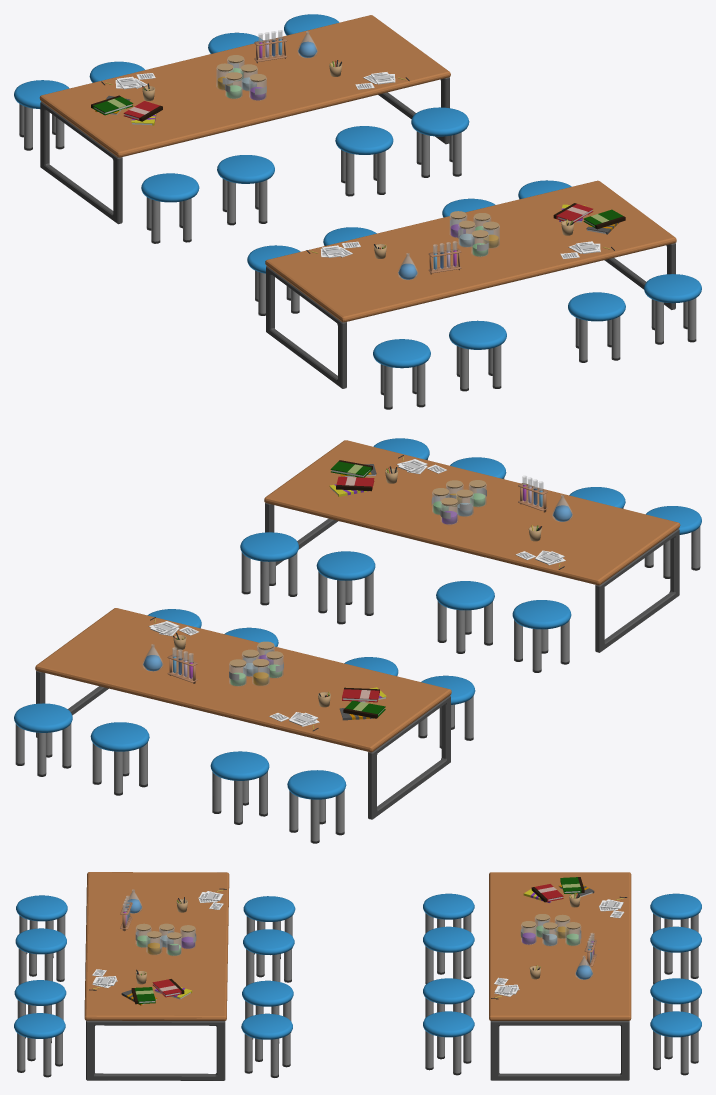
File: d-roombomp-d-hsab-labor.glb
The picture shows the model from 3 angles, top to bottom: view 1: azimuth 30°, elevation 25°; view 2: azimuth 150°, elevation 25°; view 3: azimuth 270°, elevation 25°; orthographic projection. The views are drawn at different scales.
Visible parts, largest first — view 1: x8Table.010, x8Table.014; view 2: x8Table.014, x8Table.010; view 3: x8Table.014, x8Table.010.
Boxes of the visible parts, x1=… form: x8Table.010: x1=14, y1=14, x2=469, y2=243; x8Table.014: x1=247, y1=180, x2=701, y2=409; x8Table.014: x1=240, y1=438, x2=701, y2=672; x8Table.010: x1=14, y1=608, x2=475, y2=843; x8Table.014: x1=14, y1=872, x2=295, y2=1080; x8Table.010: x1=423, y1=872, x2=701, y2=1080.
Bounding box in the file's own units: 4.85 × 1.39 × 9.67.
Materials: 4 (3 with a texture image).
